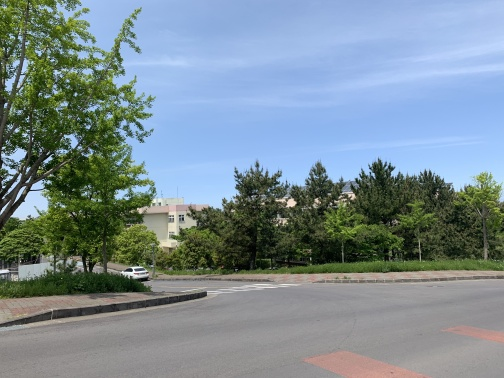College Of Education: (139, 194, 239, 247)
